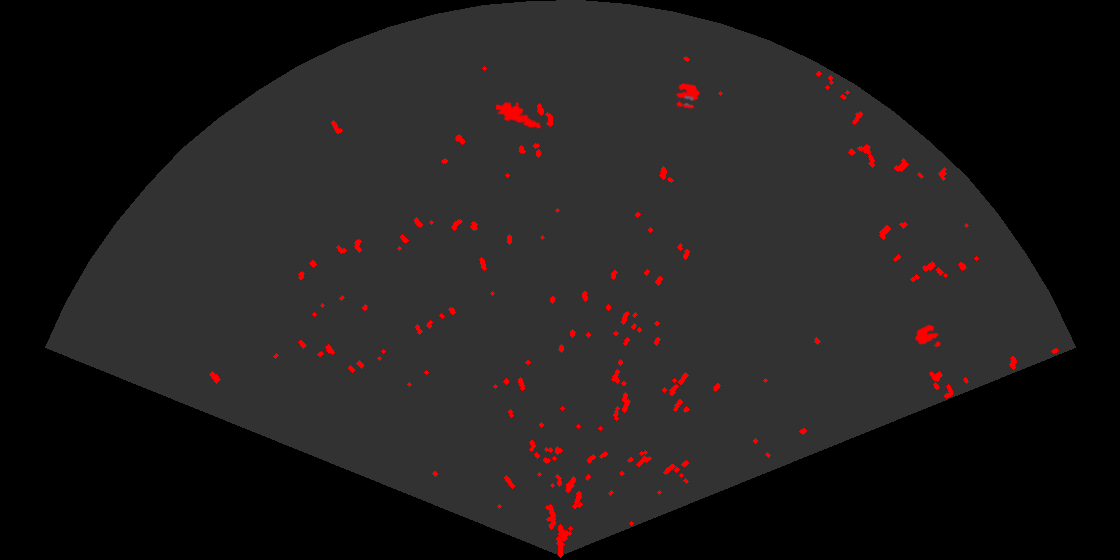ball: (674, 82, 701, 110), (913, 323, 942, 349)
frogman: (496, 100, 543, 130)
